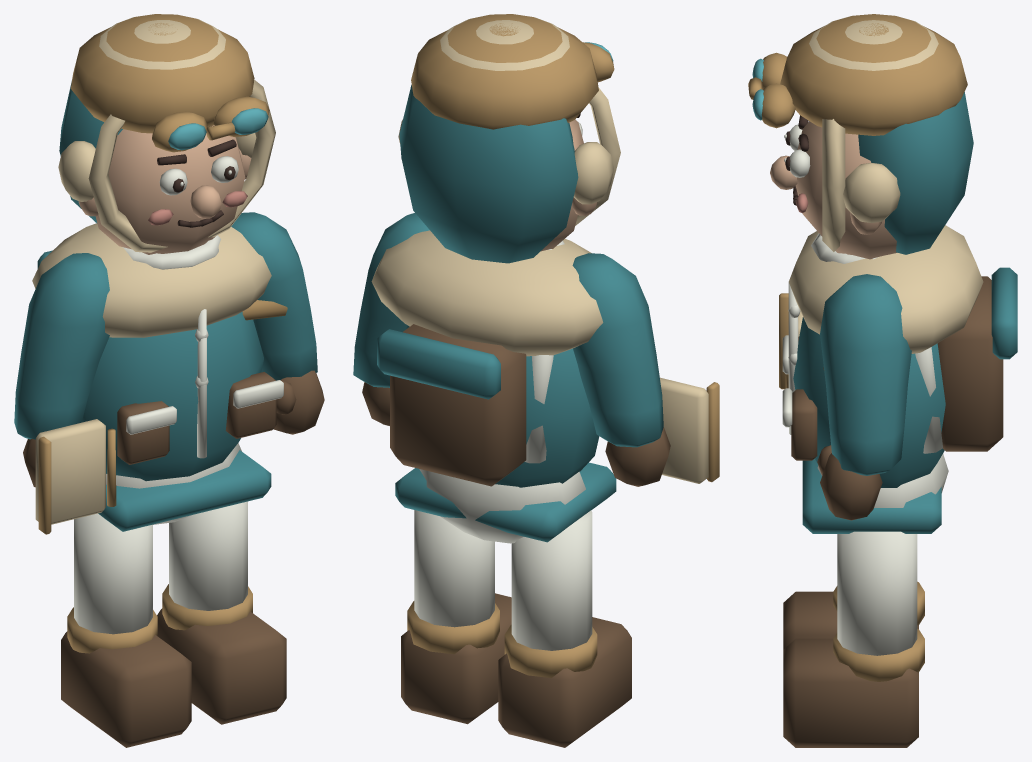
The model's file is world14-ruins-surveyors.glb.
3 views of the same model, side by side, from view 1: azimuth 30°, elevation 25°; view 2: azimuth 150°, elevation 25°; view 3: azimuth 270°, elevation 25° (orthographic). The views are drawn at different scales.
Parts seen in each view (by area): view 1: ruin-surveyor-cartographer-body-teal, ruin-surveyor-cartographer-stable-lower-leather, ruin-surveyor-cartographer-stable-lower-ivory, ruin-surveyor-scout-head-bronze, ruin-surveyor-cartographer-shoulders-sand, ruin-surveyor-cartographer-left-arm-teal, ruin-surveyor-cartographer-head-skin, ruin-surveyor-cartographer-right-arm-teal, ruin-surveyor-cartographer-left-arm-sand, ruin-surveyor-cartographer-head-sand, ruin-surveyor-scribe-head-sand, ruin-surveyor-cartographer-body-leather (+13 smaller); view 2: ruin-surveyor-cartographer-stable-lower-ivory, ruin-surveyor-cartographer-head-teal, ruin-surveyor-cartographer-shoulders-sand, ruin-surveyor-cartographer-body-teal, ruin-surveyor-cartographer-stable-lower-leather, ruin-surveyor-scout-head-bronze, ruin-surveyor-cartographer-body-leather, ruin-surveyor-cartographer-left-arm-teal, ruin-surveyor-cartographer-stable-lower-bronze, ruin-surveyor-scribe-head-sand, ruin-surveyor-cartographer-left-arm-sand, ruin-surveyor-cartographer-right-arm-teal (+7 smaller); view 3: ruin-surveyor-scout-head-bronze, ruin-surveyor-cartographer-right-arm-teal, ruin-surveyor-cartographer-stable-lower-leather, ruin-surveyor-cartographer-body-teal, ruin-surveyor-cartographer-shoulders-sand, ruin-surveyor-cartographer-stable-lower-ivory, ruin-surveyor-cartographer-head-teal, ruin-surveyor-cartographer-body-leather, ruin-surveyor-scribe-head-sand, ruin-surveyor-cartographer-head-skin, ruin-surveyor-cartographer-head-sand, ruin-surveyor-cartographer-right-arm-leather (+8 smaller).
Part boxes in pixels (<box>): ruin-surveyor-cartographer-body-teal: <box>37,250,271,531</box>; ruin-surveyor-cartographer-stable-lower-leather: <box>61,608,286,747</box>; ruin-surveyor-cartographer-stable-lower-ivory: <box>74,443,247,634</box>; ruin-surveyor-scout-head-bronze: <box>70,14,254,152</box>; ruin-surveyor-cartographer-shoulders-sand: <box>32,223,271,337</box>; ruin-surveyor-cartographer-left-arm-teal: <box>14,253,109,439</box>; ruin-surveyor-cartographer-head-skin: <box>78,125,251,254</box>; ruin-surveyor-cartographer-right-arm-teal: <box>231,212,317,380</box>; ruin-surveyor-cartographer-left-arm-sand: <box>35,419,105,524</box>; ruin-surveyor-cartographer-head-sand: <box>88,79,275,252</box>; ruin-surveyor-scribe-head-sand: <box>58,17,256,201</box>; ruin-surveyor-cartographer-body-leather: <box>117,372,276,464</box>; ruin-surveyor-cartographer-stable-lower-ivory: <box>414,469,592,650</box>; ruin-surveyor-cartographer-head-teal: <box>399,85,578,263</box>; ruin-surveyor-cartographer-shoulders-sand: <box>371,230,603,356</box>; ruin-surveyor-cartographer-body-teal: <box>377,325,616,542</box>; ruin-surveyor-cartographer-stable-lower-leather: <box>401,593,631,747</box>; ruin-surveyor-scout-head-bronze: <box>411,14,602,129</box>; ruin-surveyor-cartographer-body-leather: <box>390,324,526,486</box>; ruin-surveyor-cartographer-left-arm-teal: <box>572,253,663,447</box>; ruin-surveyor-cartographer-stable-lower-bronze: <box>407,601,597,677</box>; ruin-surveyor-scribe-head-sand: <box>398,17,613,204</box>; ruin-surveyor-cartographer-left-arm-sand: <box>660,377,708,483</box>; ruin-surveyor-cartographer-right-arm-teal: <box>353,213,429,387</box>; ruin-surveyor-scout-head-bronze: <box>748,14,967,135</box>; ruin-surveyor-cartographer-right-arm-teal: <box>820,274,911,475</box>; ruin-surveyor-cartographer-stable-lower-leather: <box>783,591,918,747</box>; ruin-surveyor-cartographer-body-teal: <box>793,267,1017,533</box>; ruin-surveyor-cartographer-shoulders-sand: <box>788,225,983,353</box>; ruin-surveyor-cartographer-stable-lower-ivory: <box>817,453,948,655</box>; ruin-surveyor-cartographer-head-teal: <box>858,92,973,254</box>; ruin-surveyor-cartographer-body-leather: <box>791,276,1003,460</box>; ruin-surveyor-scribe-head-sand: <box>809,16,938,222</box>; ruin-surveyor-cartographer-head-skin: <box>770,121,897,259</box>; ruin-surveyor-cartographer-head-sand: <box>822,119,845,251</box>; ruin-surveyor-cartographer-right-arm-leather: <box>817,445,882,520</box>.
Bounding box in the file's own units: 1.05 × 2.16 × 0.7747.
